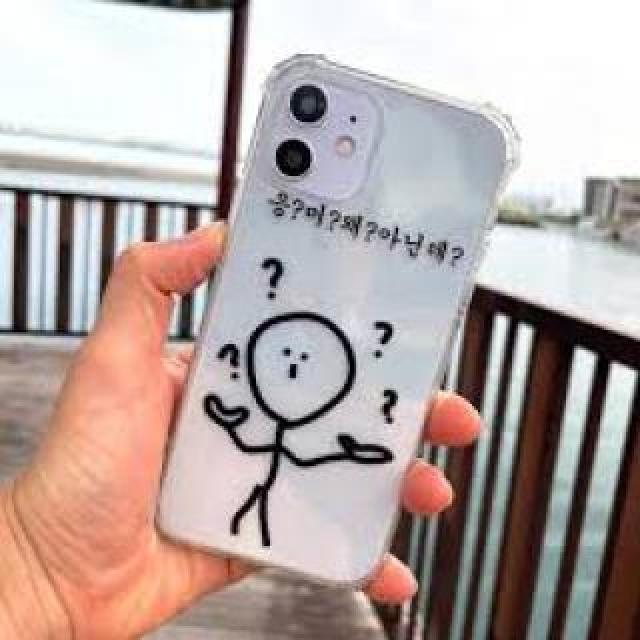smart phone: (210, 26, 488, 592)
